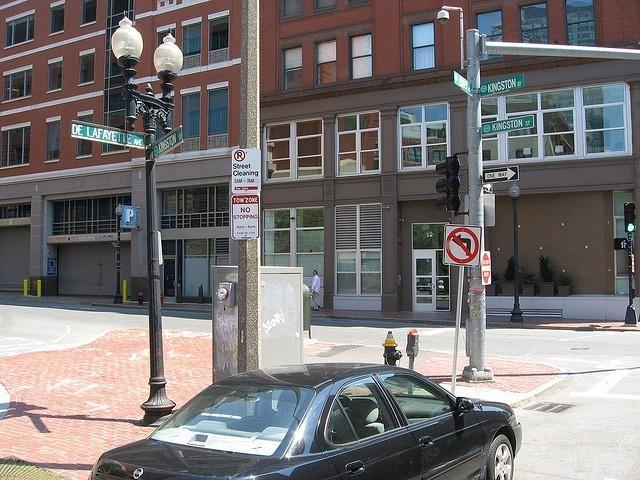car: (92, 360, 520, 473)
